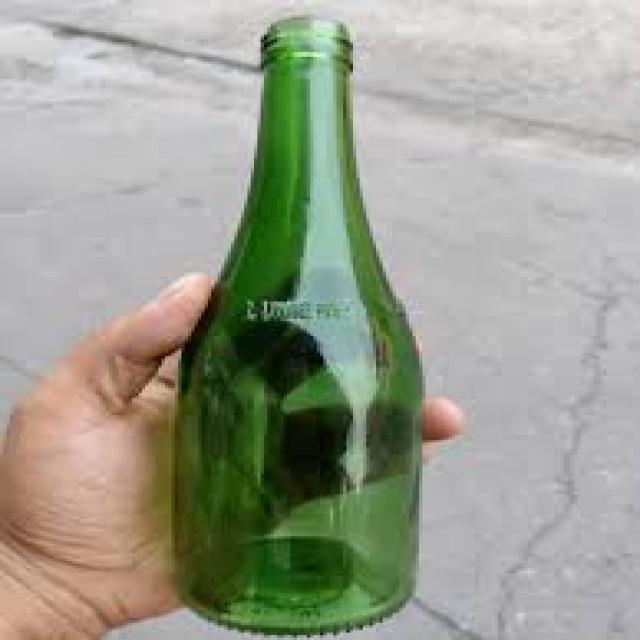glass: (162, 15, 422, 637)
